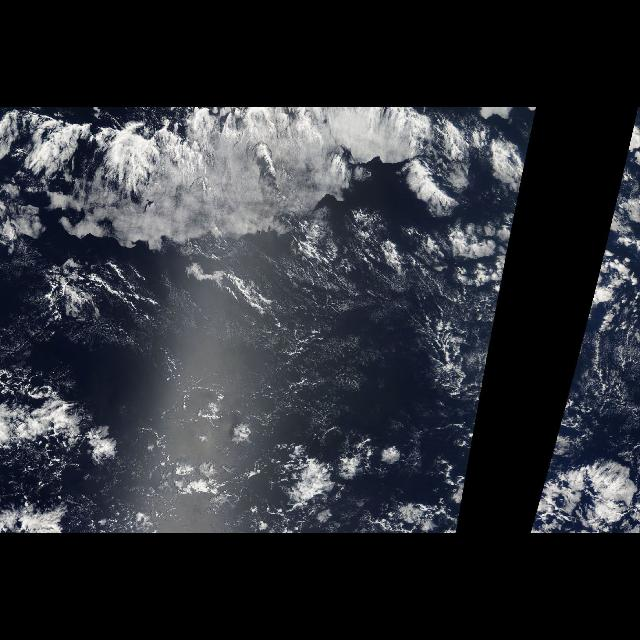Flower: (6, 109, 538, 348), (580, 109, 640, 348)
Sugar: (81, 256, 486, 526)
